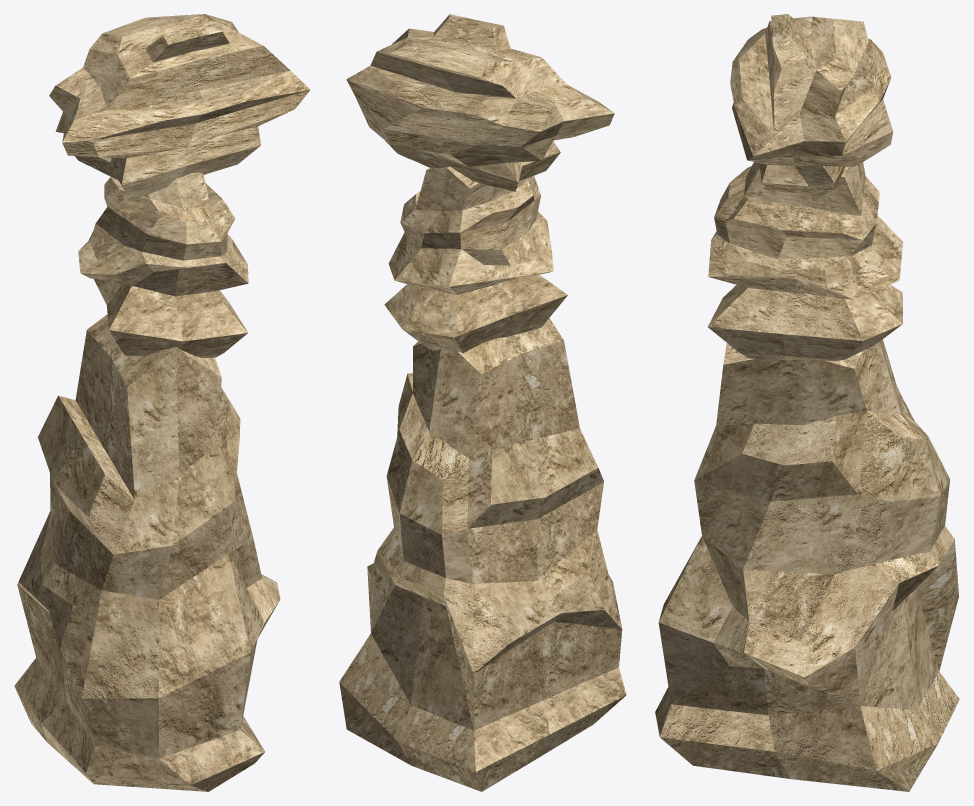
Rendered from rock-set-desert-04.dae.
3 renders of one model, left to right at view 1: azimuth 30°, elevation 25°; view 2: azimuth 150°, elevation 25°; view 3: azimuth 270°, elevation 25°, orthographic. The views are drawn at different scales.
Parts seen in each view (by area): view 1: Cube_017; view 2: Cube_017; view 3: Cube_017.
Boxes of the visible parts, bbox=[...] form: Cube_017: bbox=[14, 14, 310, 791]; Cube_017: bbox=[339, 14, 626, 791]; Cube_017: bbox=[655, 14, 959, 791].
Size of the model in its own units: 0.7274 by 0.7604 by 2.07.
